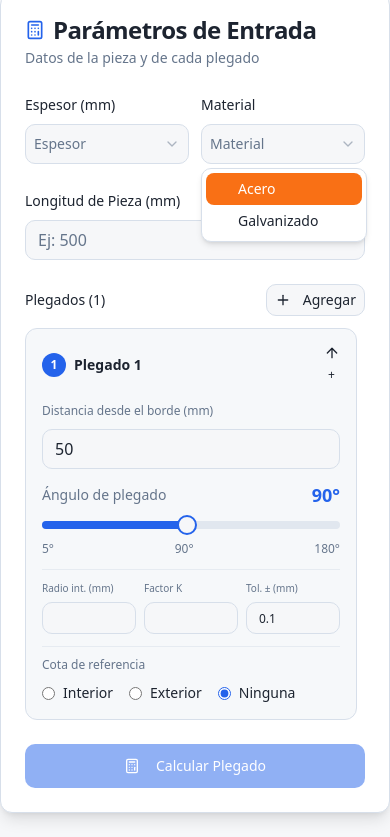
BendCalculator: procedencia manual de R/K › cambiar espesor borra defaults y la procedencia manual anterior
The image size is (390, 837).
Earlier steps of the test are not shown.
Later steps or results of the test are not shown.
Click the option "Galvanizado" at (278, 220), box [238,211,318,230]
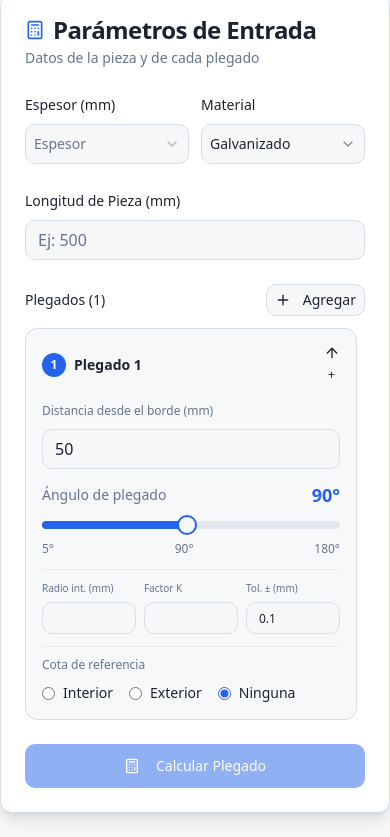
Click the dropdown labelled "Espesor" at (107, 144), box [25,124,189,164]
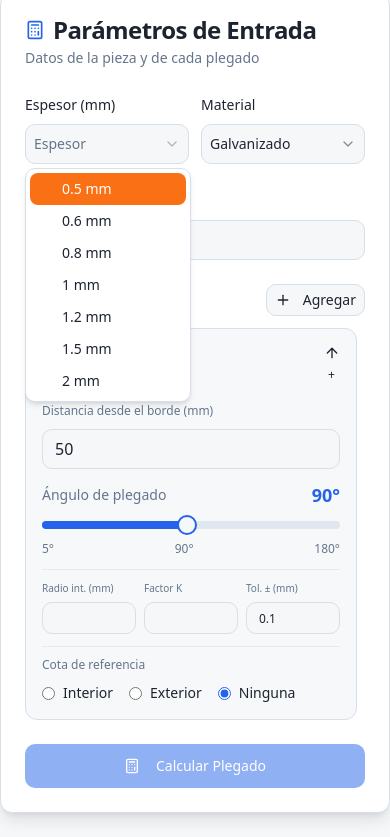
Click the option "1 mm" at (81, 284), box [62,275,100,294]
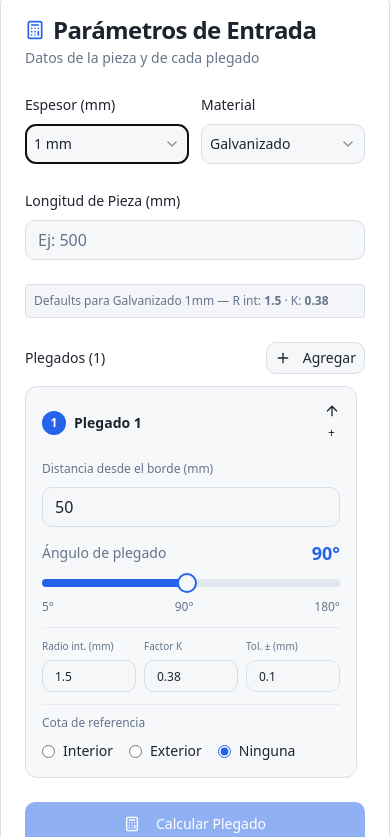
Type "100" into the number field with placeholder "Ej: 500" at (195, 240), box [25,220,365,260]
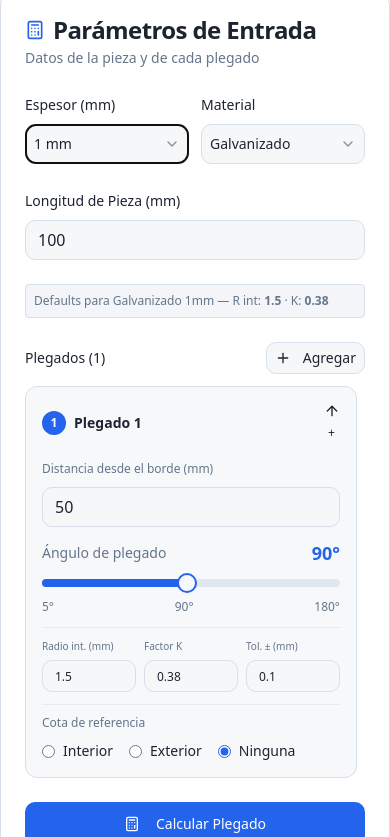
Type "3" into the number field named "Radio interior plegado 1" at (89, 676), box [42,660,136,692]
Type "0.2" into the number field named "Factor K plegado 1" at (191, 676), box [144,660,238,692]
Click the dropdown named "Espesor" at (107, 144), box [25,124,189,164]
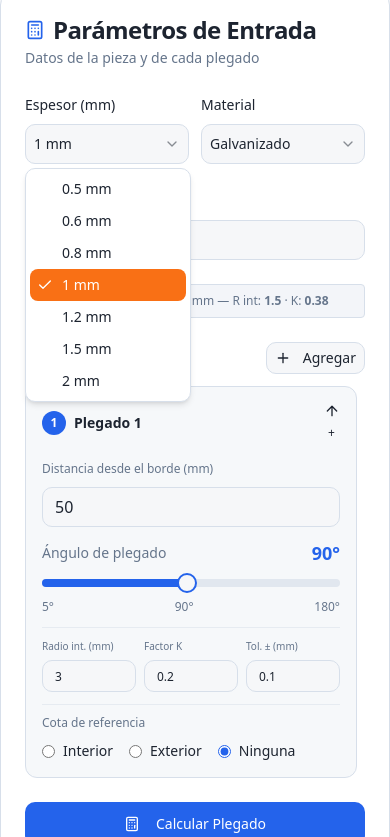
Click the option "2 mm" at (81, 380), box [62,371,100,390]
(page scrolled)
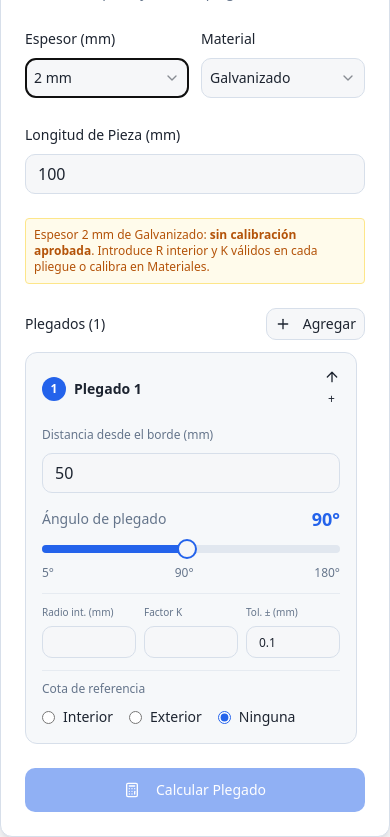
Expected: the button "Calcular Plegado" is disabled, [25,768,365,812]
